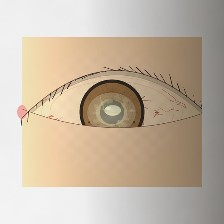corneal_ulcer: (86, 92, 137, 133)
